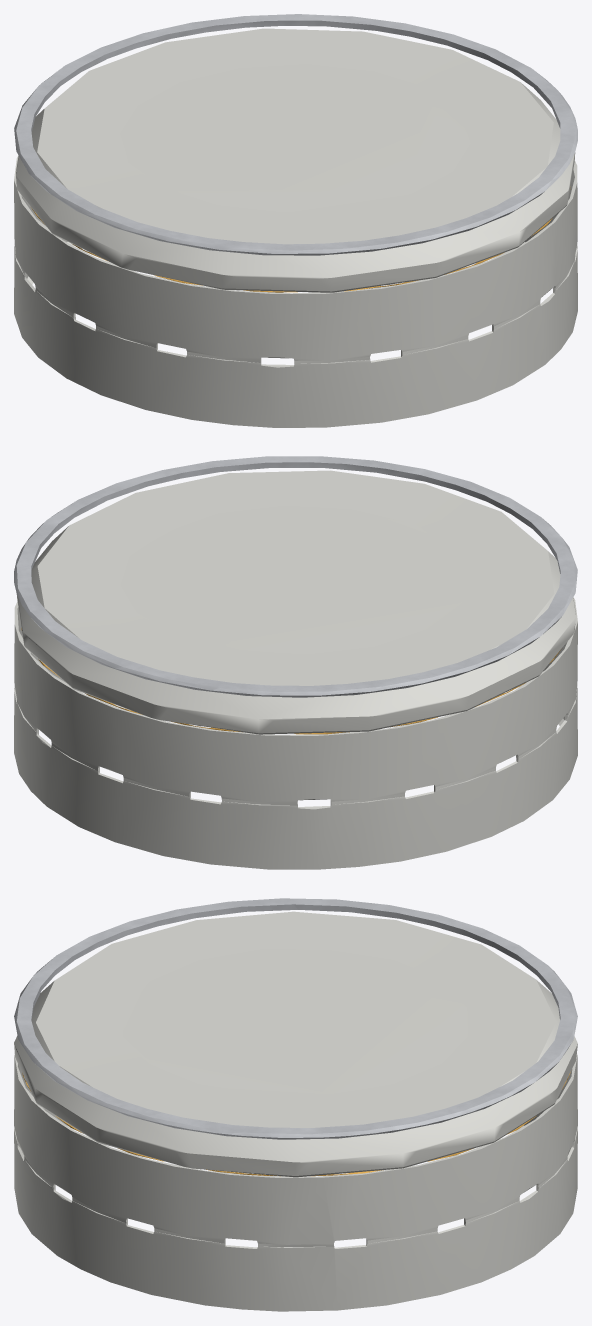
Rendered from ax_prop_05_cluster_plate_xxl.glb.
The picture shows the model from 3 angles, top to bottom: view 1: azimuth 30°, elevation 25°; view 2: azimuth 150°, elevation 25°; view 3: azimuth 270°, elevation 25°; orthographic projection.
Parts seen in each view (by area): view 1: thrust_plate, aft_skirt, interface_ring, mli_floor; view 2: thrust_plate, aft_skirt, interface_ring, mli_floor; view 3: thrust_plate, aft_skirt, interface_ring, mli_floor.
Boxes of the visible parts, bbox=[...] form: thrust_plate: bbox=[16, 28, 575, 292]; aft_skirt: bbox=[14, 155, 577, 427]; interface_ring: bbox=[14, 14, 577, 255]; mli_floor: bbox=[31, 187, 570, 292]; thrust_plate: bbox=[16, 470, 575, 734]; aft_skirt: bbox=[14, 597, 577, 869]; interface_ring: bbox=[14, 456, 577, 697]; mli_floor: bbox=[21, 628, 560, 734]; thrust_plate: bbox=[14, 911, 577, 1177]; aft_skirt: bbox=[14, 1054, 577, 1311]; interface_ring: bbox=[14, 898, 577, 1139]; mli_floor: bbox=[22, 1072, 570, 1176].
Bounding box in the file's own units: 7.5 × 2.63 × 7.5.
Materials: 3 (2 with a texture image).
